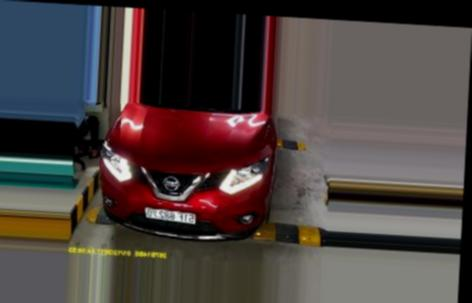License_Plate: (146, 207, 199, 224)
